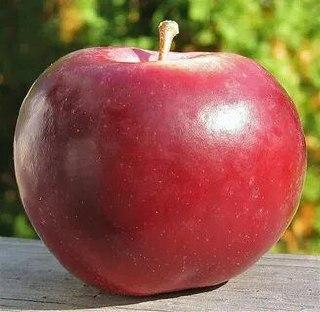Apple: (15, 46, 306, 296)
